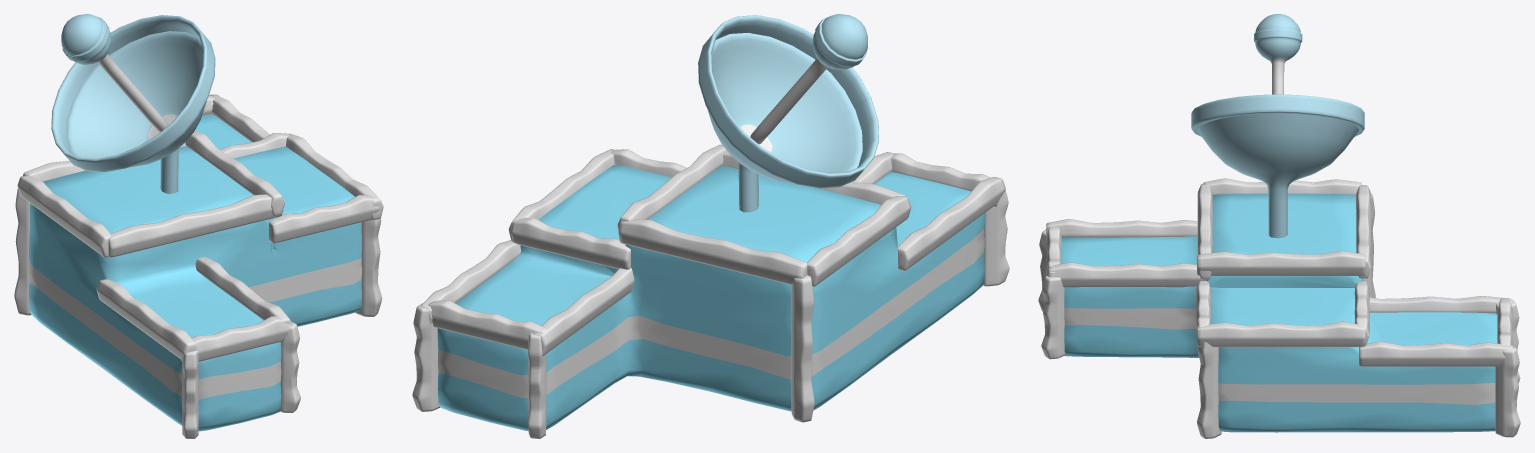
The model's file is Tower_Support_RangeUp.fbx.
3 renders of one model, left to right at view 1: azimuth 30°, elevation 25°; view 2: azimuth 150°, elevation 25°; view 3: azimuth 270°, elevation 25°, orthographic. The views are drawn at different scales.
Parts seen in each view (by area): view 1: Cube.029, Cube.069, Cube.031; view 2: Cube.029, Cube.069, Cube.031; view 3: Cube.029, Cube.069, Cube.031.
Boxes of the visible parts, <box> form: Cube.029: <box>29,114,362,431</box>; Cube.069: <box>14,94,383,438</box>; Cube.031: <box>51,14,215,193</box>; Cube.029: <box>437,164,984,430</box>; Cube.069: <box>412,144,1009,438</box>; Cube.031: <box>698,14,878,212</box>; Cube.029: <box>1061,193,1497,432</box>; Cube.069: <box>1038,178,1520,438</box>; Cube.031: <box>1191,14,1364,238</box>.
Size of the model in its own units: 178 by 196 by 277.
